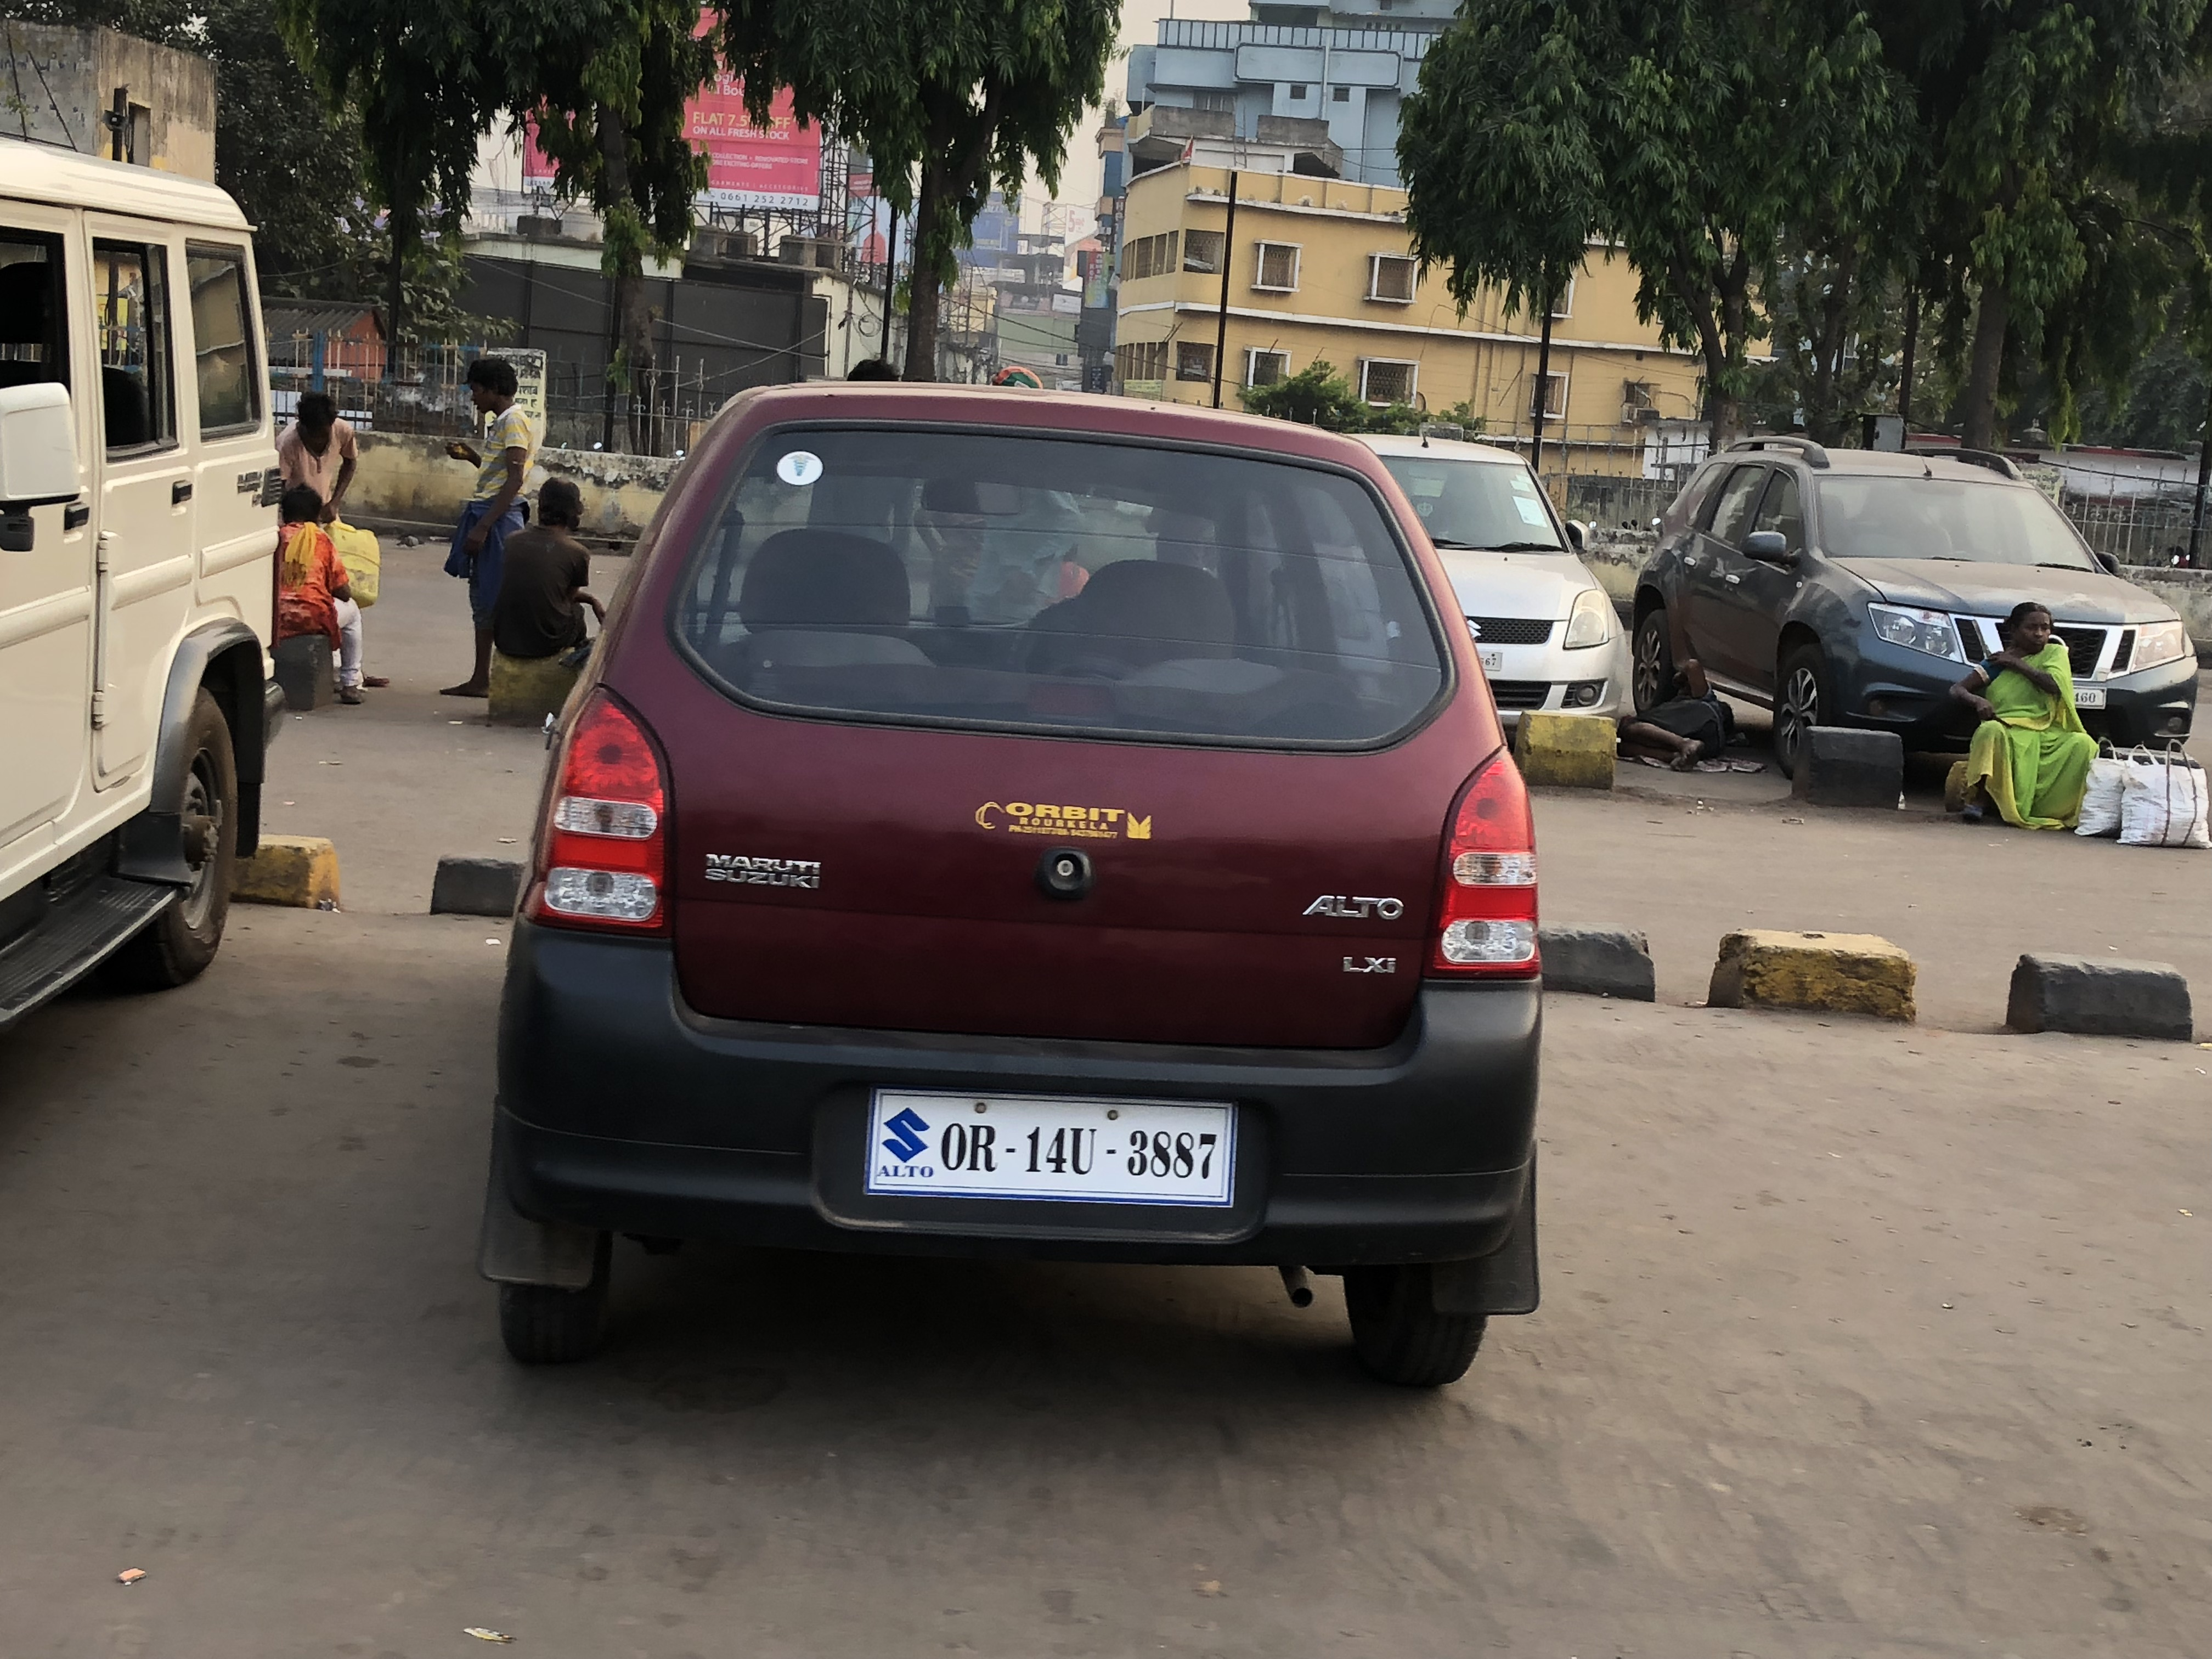licenseplate: (854, 1079, 1252, 1214)
